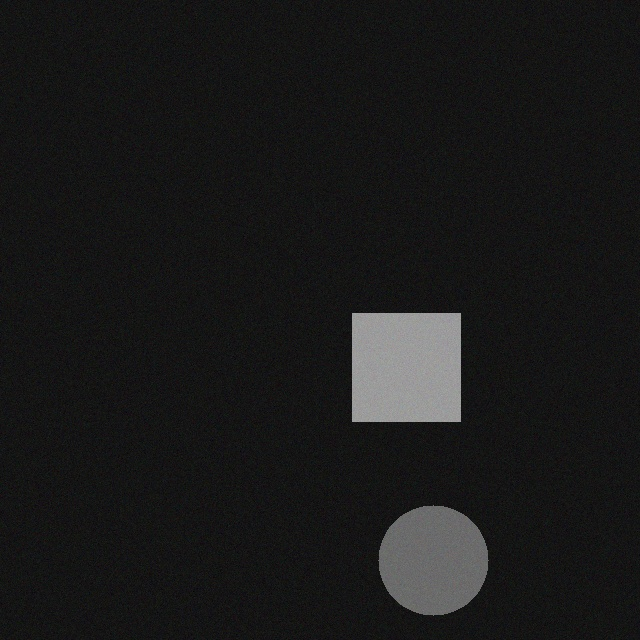circle: (393, 494, 503, 604)
square: (367, 302, 475, 410)
